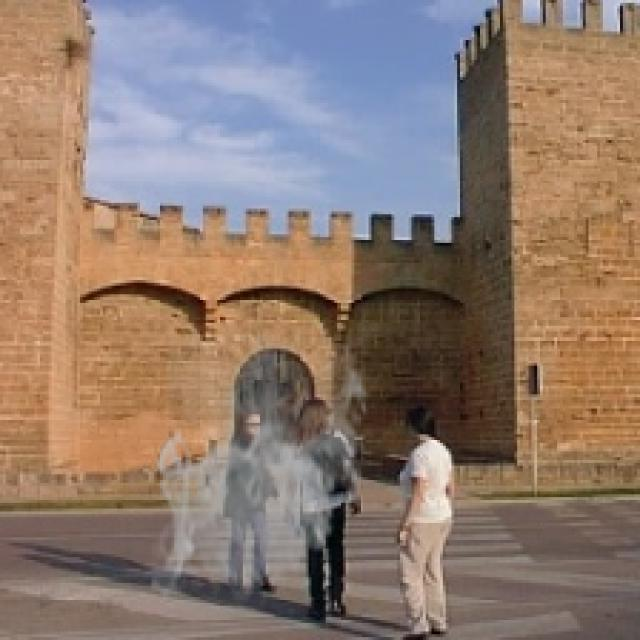Smoke: (152, 334, 374, 606)
